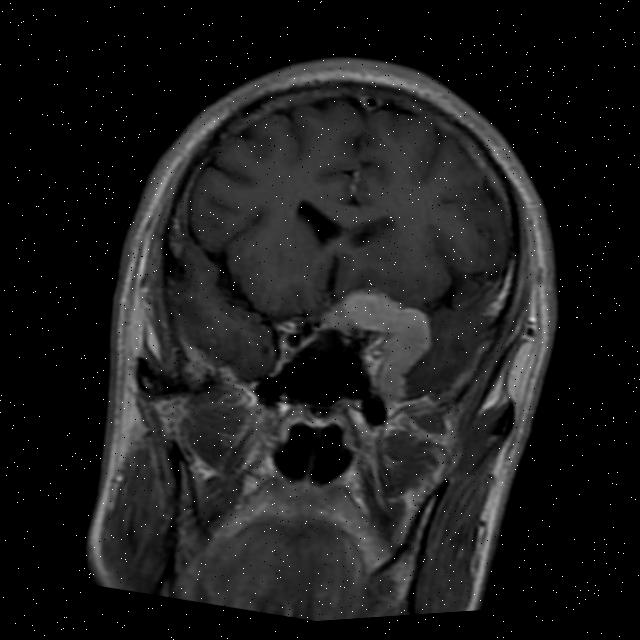Meningioma: (312, 274, 444, 403)
